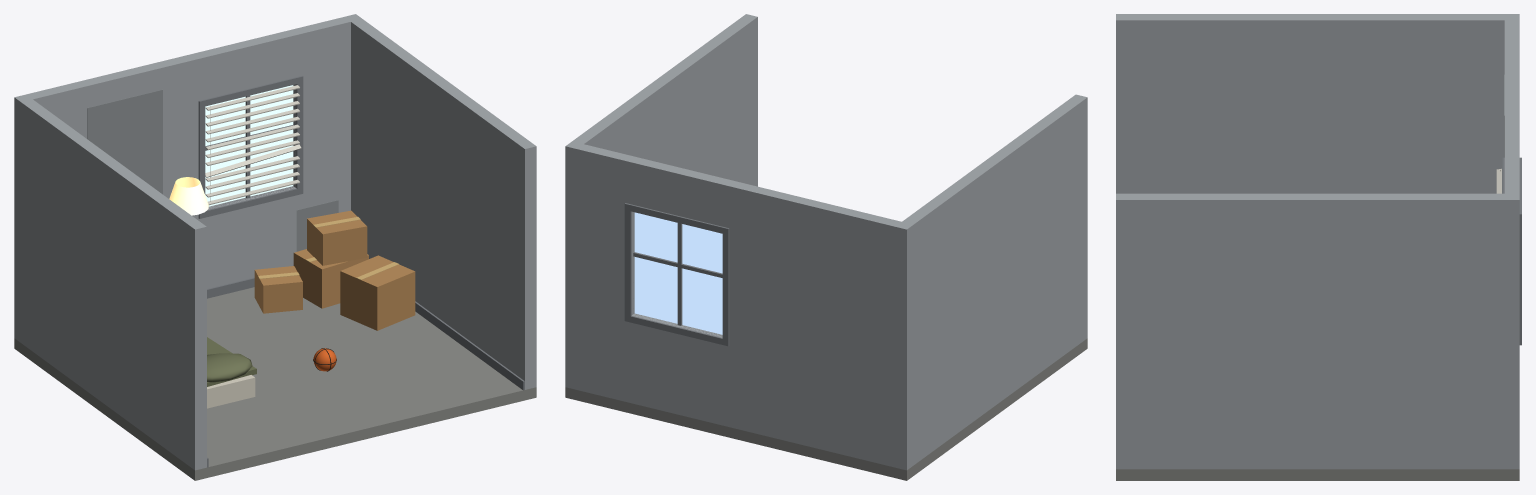
Rendered from loc_apartment_01.glb.
3 views of the same model, side by side, from view 1: azimuth 30°, elevation 25°; view 2: azimuth 150°, elevation 25°; view 3: azimuth 270°, elevation 25° (orthographic). The views are drawn at different scales.
Visible parts, largest first — view 1: wall_left, wall_right, floor, wall_back, moving_boxes, damp_stains, window_blinds, windows_back_glass, windows_back_frames, baseboards, mattress_blanket, mattress_body (+2 smaller); view 2: wall_back, wall_left, wall_right, windows_back_glass, floor, windows_back_frames; view 3: wall_right, wall_left, wall_back, floor, windows_back_frames.
Boxes of the visible parts, x1,y1,x2,y2 form: wall_left: (21, 99, 206, 470); wall_right: (351, 19, 536, 389); floor: (14, 287, 536, 480); wall_back: (14, 14, 361, 342); moving_boxes: (254, 210, 415, 330); damp_stains: (87, 89, 338, 251); window_blinds: (205, 85, 301, 205); windows_back_glass: (205, 85, 293, 206); windows_back_frames: (198, 75, 303, 218); baseboards: (207, 277, 524, 467); mattress_blanket: (207, 337, 256, 386); mattress_body: (207, 375, 255, 408); wall_back: (565, 141, 913, 470); wall_left: (902, 94, 1087, 464); wall_right: (572, 14, 757, 186); windows_back_glass: (634, 212, 722, 334); floor: (565, 338, 1087, 480); windows_back_frames: (624, 203, 729, 346); wall_right: (1116, 193, 1504, 469); wall_left: (1116, 14, 1504, 193); wall_back: (1504, 14, 1519, 469); floor: (1116, 469, 1519, 480); windows_back_frames: (1502, 157, 1521, 345).
Bounding box in the file's own units: 4.08 × 2.87 × 3.76.
